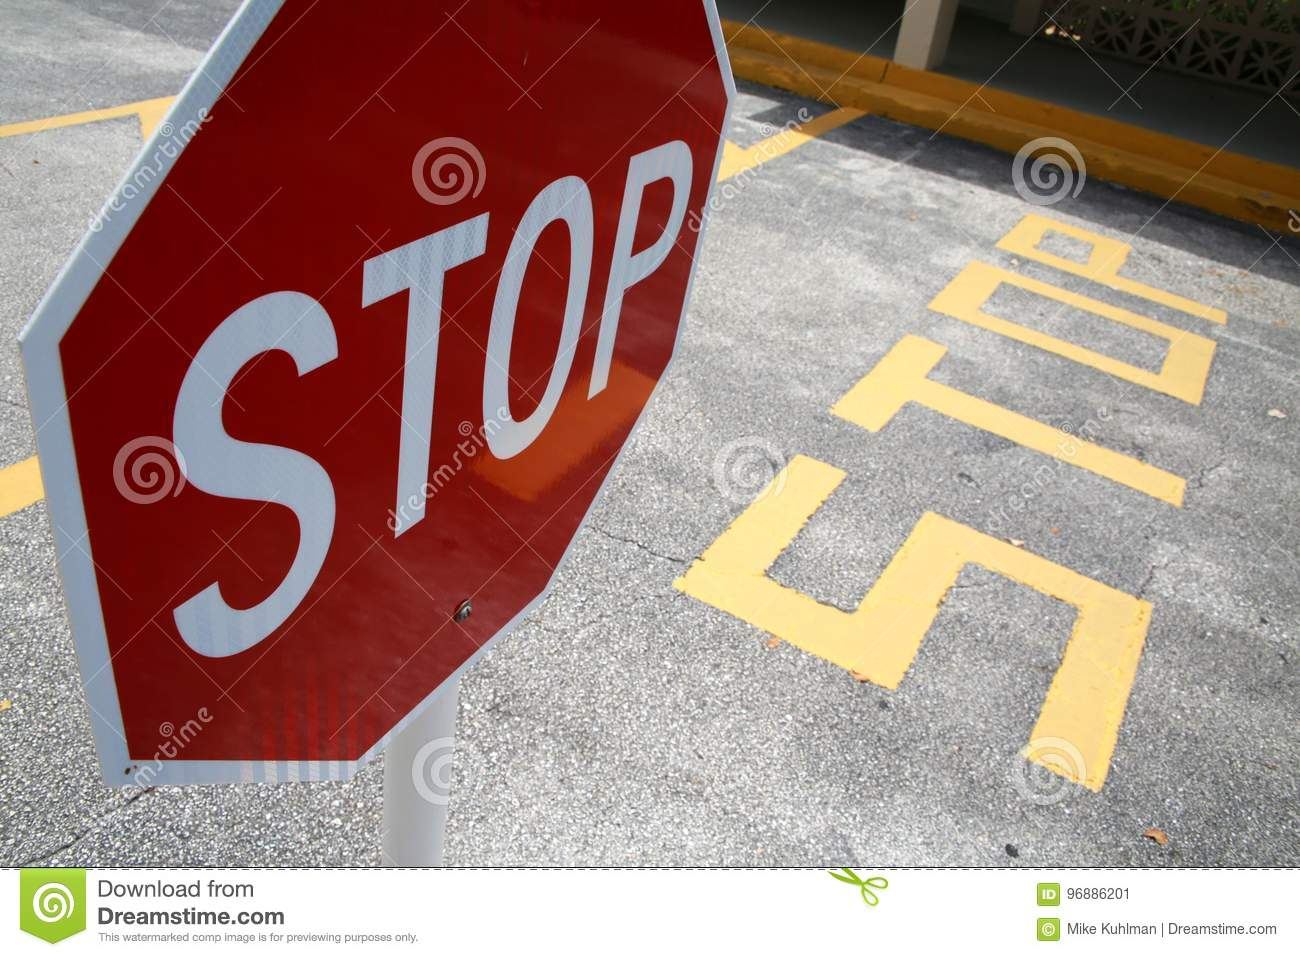stopsign: (31, 1, 730, 790)
